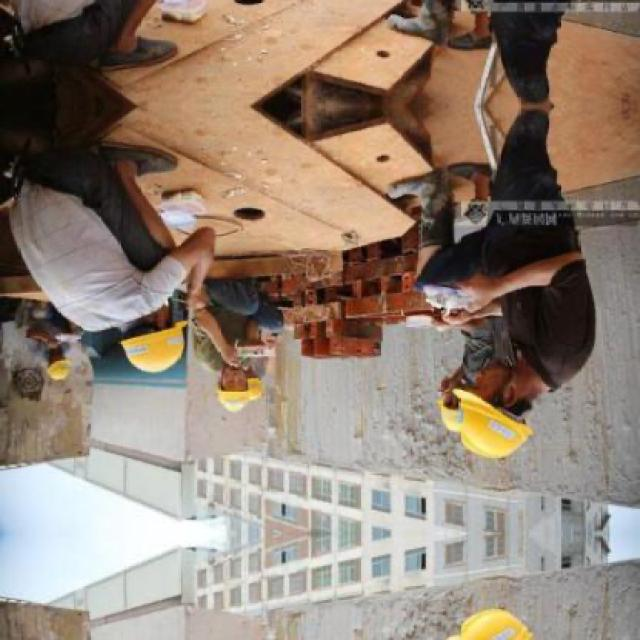con casco: (410, 330, 576, 445), (84, 300, 224, 383), (200, 361, 280, 439)
